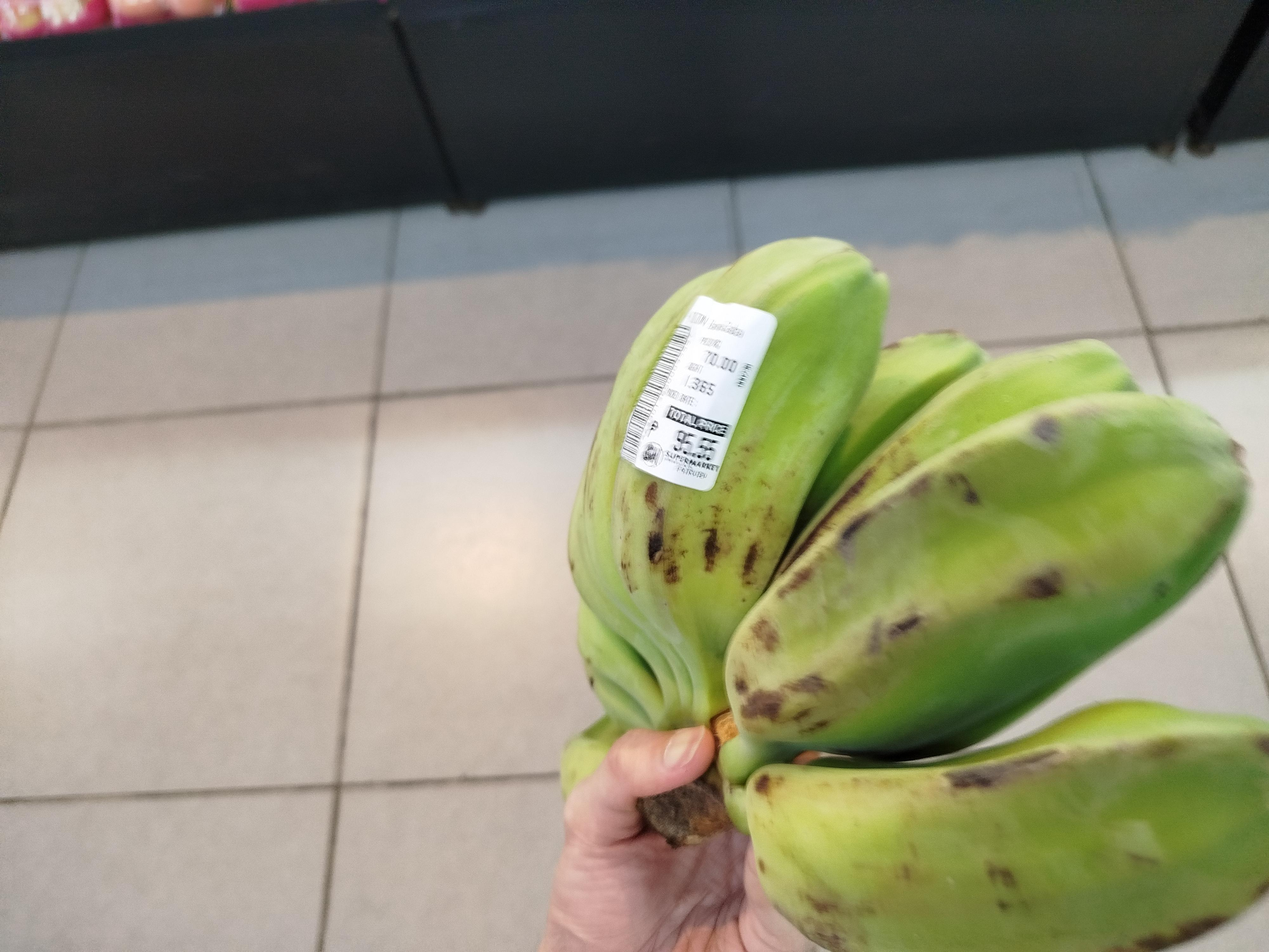underripe: (565, 239, 1269, 952)
